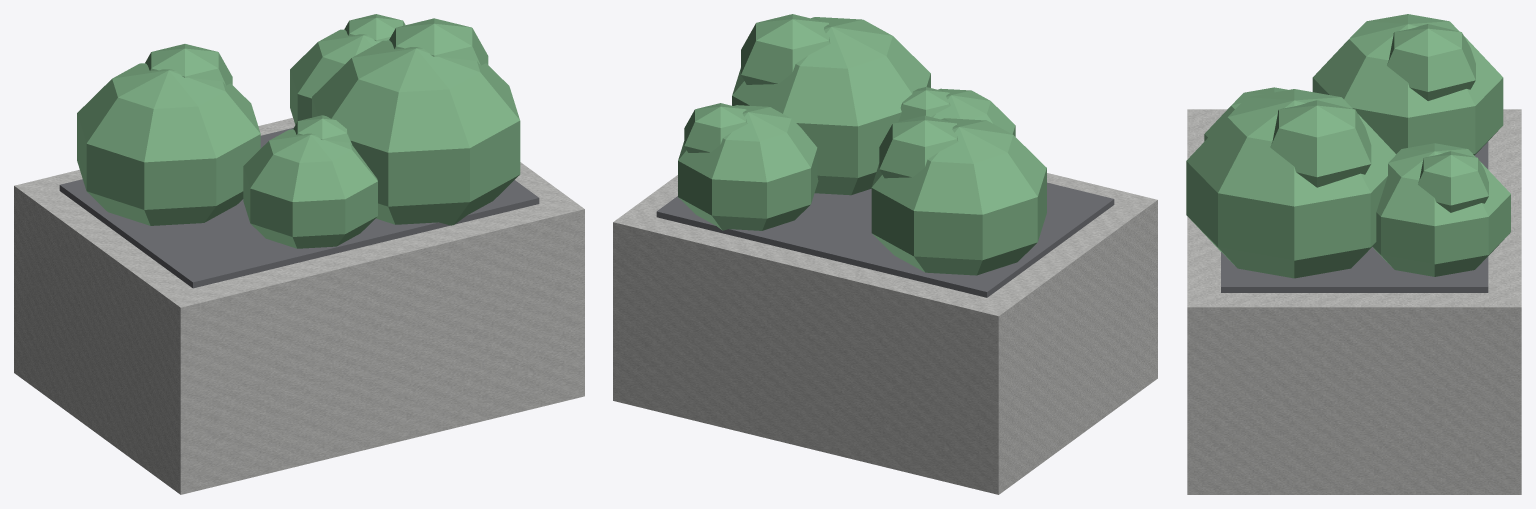
3 views of the same model, side by side, from view 1: azimuth 30°, elevation 25°; view 2: azimuth 150°, elevation 25°; view 3: azimuth 270°, elevation 25° (orthographic). The views are drawn at different scales.
Parts seen in each view (by area): view 1: street-planter-concrete, street-planter-foliage, street-planter-charcoal; view 2: street-planter-concrete, street-planter-foliage, street-planter-charcoal; view 3: street-planter-concrete, street-planter-foliage, street-planter-charcoal.
Part boxes in pixels (x1=…): street-planter-concrete: x1=14, y1=117, x2=584, y2=494; street-planter-foliage: x1=77, y1=14, x2=520, y2=248; street-planter-charcoal: x1=59, y1=127, x2=539, y2=288; street-planter-concrete: x1=613, y1=173, x2=1157, y2=494; street-planter-foliage: x1=678, y1=14, x2=1046, y2=275; street-planter-charcoal: x1=656, y1=182, x2=1114, y2=297; street-planter-concrete: x1=1187, y1=109, x2=1521, y2=494; street-planter-foliage: x1=1186, y1=14, x2=1510, y2=278; street-planter-charcoal: x1=1221, y1=141, x2=1488, y2=292.
Bounding box in the file's own units: 1.4 × 1.15 × 1.
Materials: 4 (1 with a texture image).
